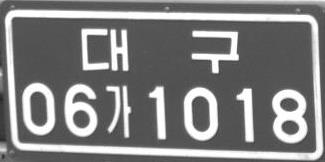0: (182, 86, 219, 141), (21, 81, 56, 136)
1: (230, 87, 265, 144), (142, 84, 175, 139)
6: (63, 83, 98, 138)
8: (271, 88, 308, 144)
가: (105, 84, 131, 138)
대구_D: (80, 27, 240, 74)
